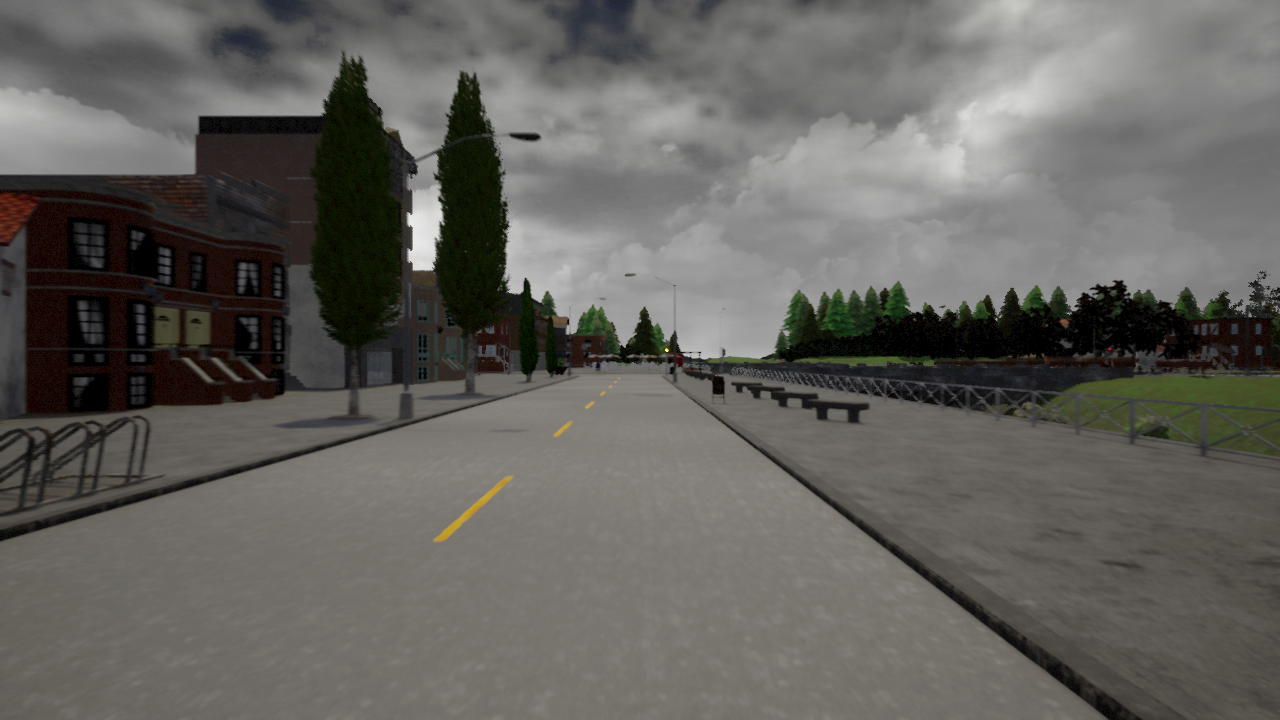yellow: (664, 342, 670, 357)
